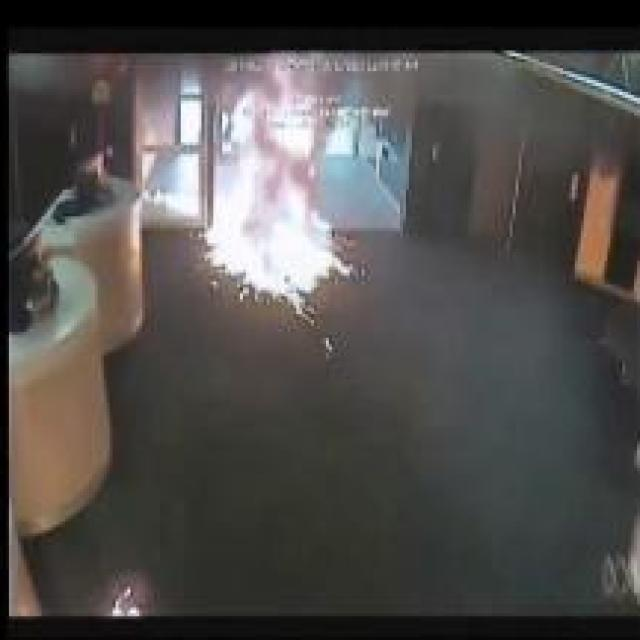smoke: (192, 71, 370, 323)
